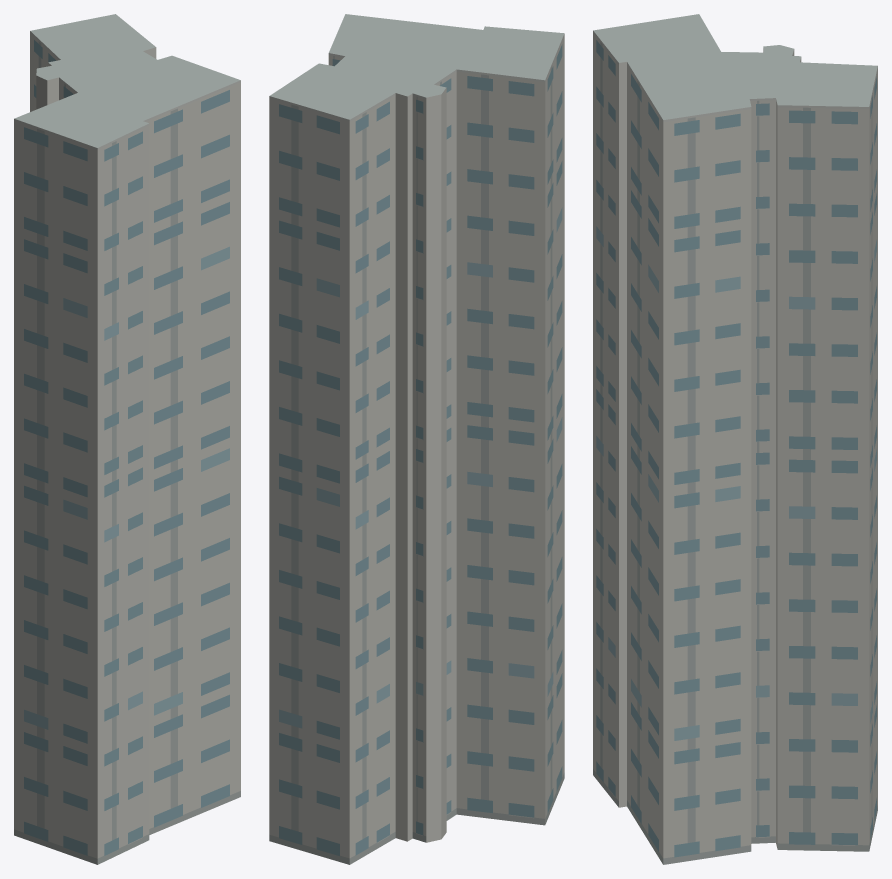
File: residential-053d1ea8-619c-4eda-a968-995e51e27eb2.glb
The picture shows the model from 3 angles, left to right: view 1: azimuth 30°, elevation 25°; view 2: azimuth 150°, elevation 25°; view 3: azimuth 270°, elevation 25°; orthographic projection. The views are drawn at different scales.
Visible parts, largest first — view 1: residential-053d1ea8-619c-4eda-a968-995e51e27eb2.tmp; view 2: residential-053d1ea8-619c-4eda-a968-995e51e27eb2.tmp; view 3: residential-053d1ea8-619c-4eda-a968-995e51e27eb2.tmp.
Boxes of the visible parts, bbox=[...] form: residential-053d1ea8-619c-4eda-a968-995e51e27eb2.tmp: bbox=[14, 14, 240, 864]; residential-053d1ea8-619c-4eda-a968-995e51e27eb2.tmp: bbox=[269, 14, 564, 864]; residential-053d1ea8-619c-4eda-a968-995e51e27eb2.tmp: bbox=[593, 14, 877, 864].
Bounding box in the file's own units: 27.54 × 90 × 31.2.
